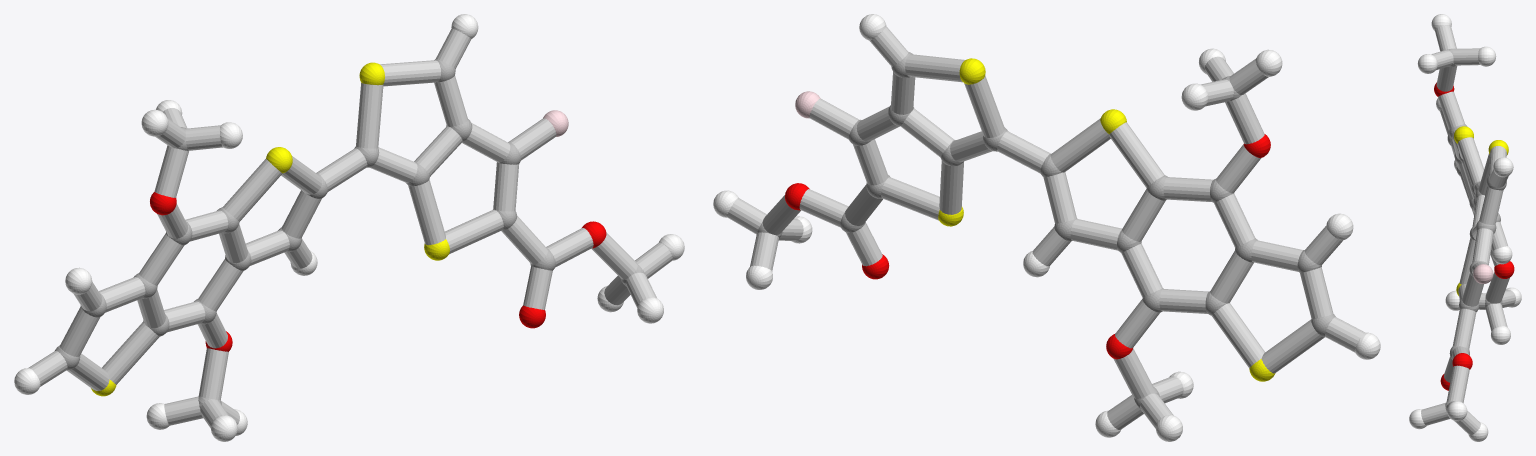
File: color.glb
3 views of the same model, side by side, from view 1: azimuth 30°, elevation 25°; view 2: azimuth 150°, elevation 25°; view 3: azimuth 270°, elevation 25° (orthographic). The views are drawn at different scales.
Visible parts, largest first — view 1: grp15205, grp8689, grp1, grp7241, grp13395; view 2: grp15205, grp8689, grp1, grp7241, grp13395; view 3: grp15205, grp8689, grp1, grp13395, grp7241, grp14843.
Boxes of the visible parts, x1=… form: grp15205: x1=28, y1=28, x2=672, y2=428; grp8689: x1=14, y1=14, x2=684, y2=441; grp1: x1=55, y1=59, x2=645, y2=408; grp7241: x1=91, y1=62, x2=449, y2=396; grp13395: x1=150, y1=192, x2=606, y2=351; grp15205: x1=727, y1=26, x2=1364, y2=429; grp8689: x1=713, y1=14, x2=1380, y2=441; grp1: x1=757, y1=52, x2=1335, y2=408; grp7241: x1=938, y1=58, x2=1275, y2=381; grp13395: x1=785, y1=134, x2=1270, y2=359; grp15205: x1=1421, y1=25, x2=1515, y2=435; grp8689: x1=1409, y1=14, x2=1521, y2=441; grp1: x1=1445, y1=48, x2=1506, y2=408; grp13395: x1=1434, y1=82, x2=1514, y2=390; grp7241: x1=1454, y1=126, x2=1508, y2=295; grp14843: x1=1473, y1=264, x2=1493, y2=283.
Size of the model in its own units: 16.98 by 9.36 by 3.34.
